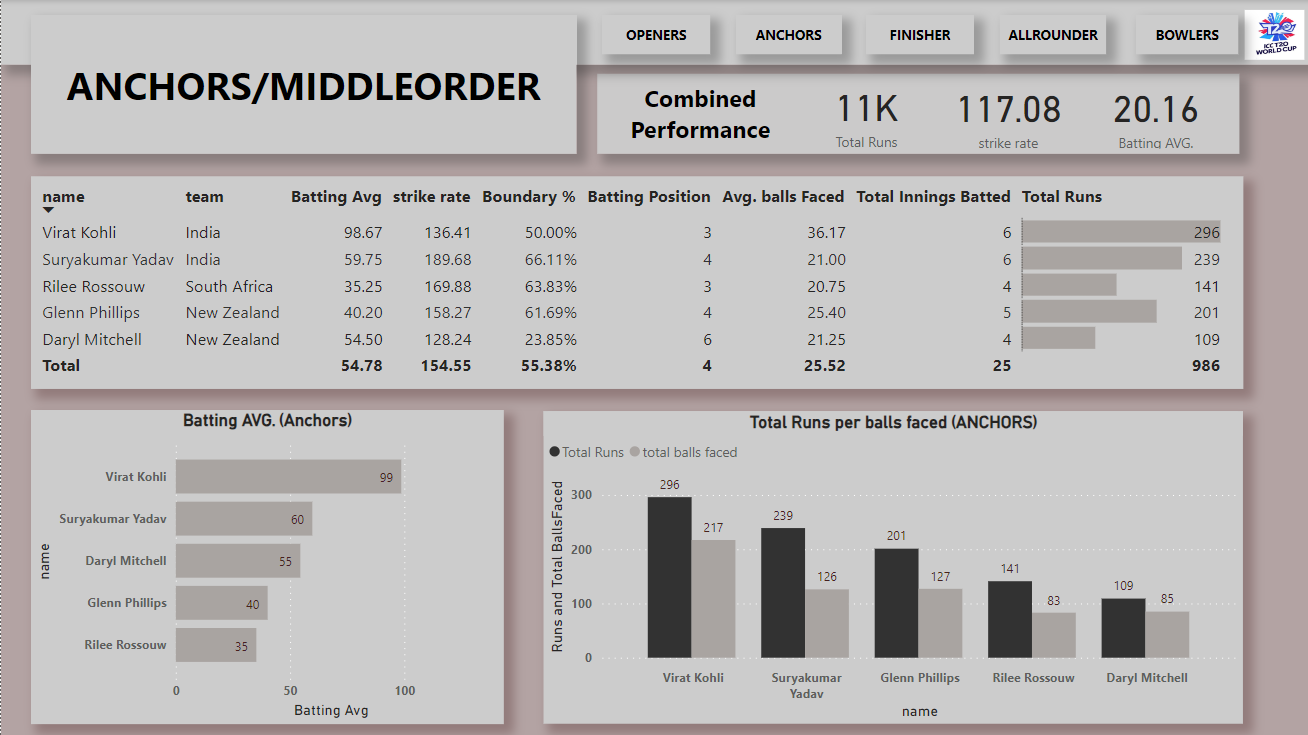

This screenshot's page, from the dashboard's own definition file:
{"tool":"powerbi","page":{"name":"Anchors","canvas":[1280,720],"ordinal":1},"visuals":[{"type":"tableEx","title":"Openers/Power Hitters","fields":{"Values":["Information.name","Information.team","Key Measures.Batting Avg","Key Measures.Strike rate","Key Measures.Boundary %","Key Measures.Batting Position","Key Measures.Avg. balls Faced","Key Measures.Total Innings Batted","Key Measures.Total Runs"]},"box":[29.3,172.4,1185.7,207.8],"z":0},{"type":"shape","box":[583.1,72.1,628.3,78.2],"z":1000},{"type":"card","fields":{"Values":["Key Measures.Batting Avg"]},"box":[1065.9,73.3,127.1,77],"z":2000},{"type":"shape","box":[588,74.6,191.9,72.1],"z":3000},{"type":"card","fields":{"Values":["Key Measures.strike rate"]},"box":[925.4,73.3,119.8,77],"z":4000},{"type":"card","fields":{"Values":["Key Measures.Total Runs"]},"box":[779.9,72.1,133.2,78.2],"z":5000},{"type":"clusteredBarChart","title":"Batting AVG. (Anchors)","fields":{"Category":["Information.name"],"Y":["Key Measures.Batting Avg"]},"box":[29.3,401,462.1,306.8],"z":6000},{"type":"clusteredColumnChart","title":"Total Runs per balls faced (ANCHORS)","fields":{"Category":["Information.name"],"Y":["Key Measures.Total Runs","Key Measures.total balls faced"]},"box":[530.6,401.7,684.2,305.7],"z":7000},{"type":"shape","box":[0,0,1279.9,63.6],"z":9000},{"type":"image","box":[1211.4,4.9,68.5,58.7],"z":10000},{"type":"shape","box":[588.2,15.1,105.6,38.4],"z":11000},{"type":"shape","box":[718.4,15.1,102.8,38.4],"z":12000},{"type":"shape","box":[845.9,15.1,105.6,38.4],"z":13000},{"type":"shape","box":[976.2,15.1,104.2,38.4],"z":14000},{"type":"shape","box":[1110.5,15.1,100.1,38.4],"z":15000},{"type":"shape","box":[28.8,15.1,533.3,135.7],"z":16000}]}

Visuals, with their boxes in screenshot pixels (x1, y1, x2, y2), scaled from the page's 1280x720 canvas onto the 1308x735 screenshot:
"Openers/Power Hitters" tableEx: 30 176 1242 388
shape: 596 74 1238 153
card - Key Measures.Batting Avg: 1089 75 1219 153
shape: 601 76 797 150
card - Key Measures.strike rate: 946 75 1068 153
card - Key Measures.Total Runs: 797 74 933 153
"Batting AVG. (Anchors)" clusteredBarChart: 30 409 502 723
"Total Runs per balls faced (ANCHORS)" clusteredColumnChart: 542 410 1241 722
shape: 0 0 1307 65
image: 1238 5 1307 65
shape: 601 15 709 55
shape: 734 15 839 55
shape: 864 15 972 55
shape: 998 15 1104 55
shape: 1135 15 1237 55
shape: 29 15 574 154
